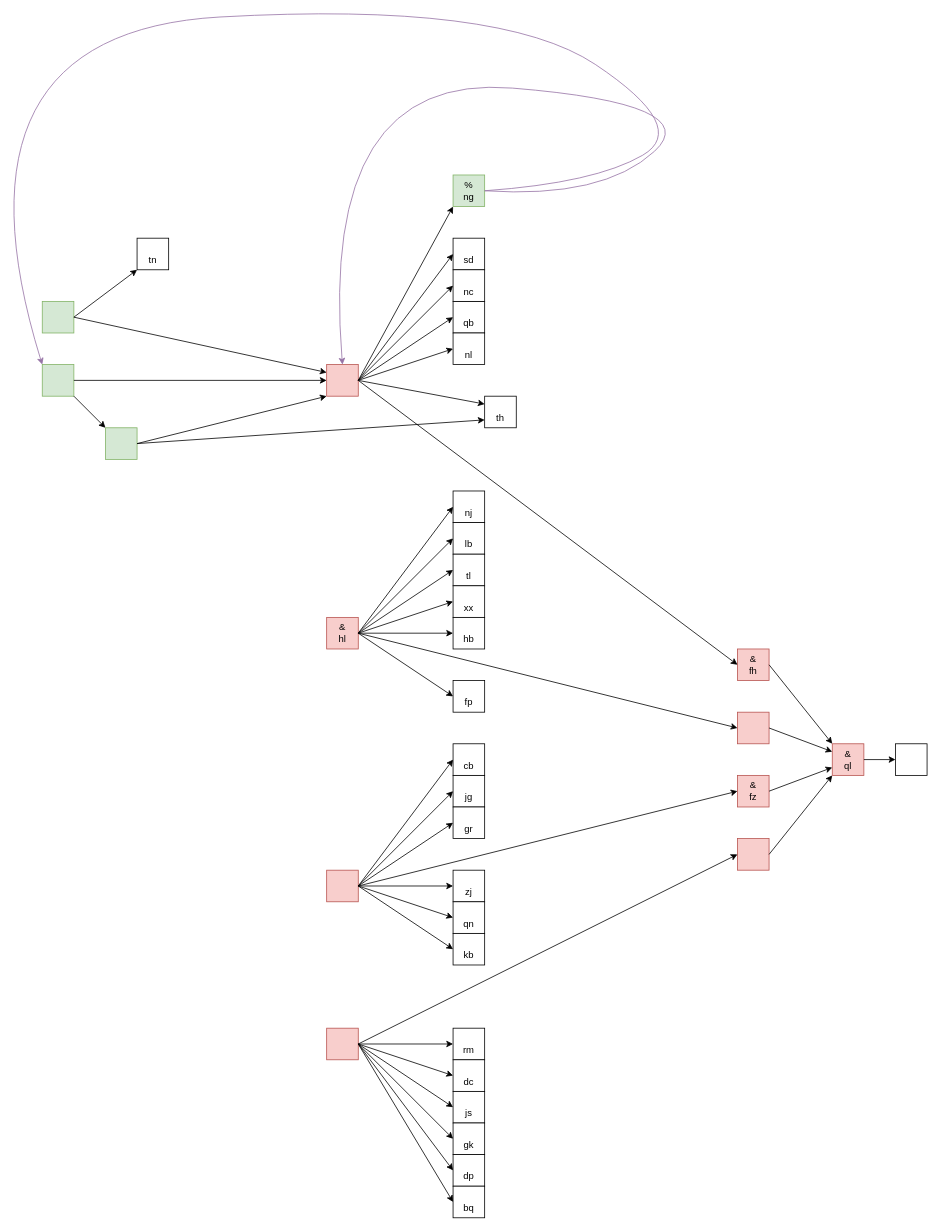
Image size: 941x1232. Some labels were removed from this diagram. Here are the shapes that lost their labels. From the top down, the centre of each, then its label:
[57,317]: % xd
[57,380]: % vp
[342,380]: & sn
[121,443]: % vf
[753,727]: & mf
[911,759]: rx
[753,854]: & ss
[342,885]: & tf
[342,1043]: & lr
